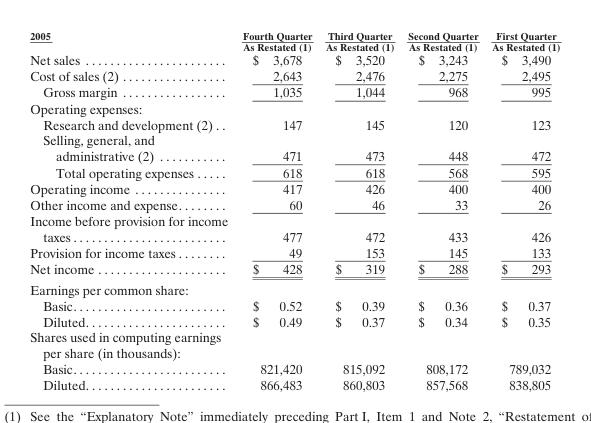table: (29, 29, 559, 391)
table column: (29, 29, 234, 391), (234, 29, 318, 391), (400, 29, 484, 391), (318, 29, 400, 391), (484, 29, 559, 391)
table column header: (29, 29, 559, 52)
table projected row header: (29, 328, 559, 360), (29, 278, 559, 297), (29, 100, 559, 116)
table row: (29, 131, 559, 163), (29, 212, 559, 244), (29, 328, 559, 360), (29, 29, 559, 52), (29, 278, 559, 297), (29, 260, 559, 278), (29, 83, 559, 100), (29, 163, 559, 180), (29, 67, 559, 83), (29, 100, 559, 116), (29, 180, 559, 196), (29, 196, 559, 212), (29, 244, 559, 260), (29, 297, 559, 313), (29, 360, 559, 376), (29, 52, 559, 67), (29, 116, 559, 131), (29, 313, 559, 328), (29, 376, 559, 391)
